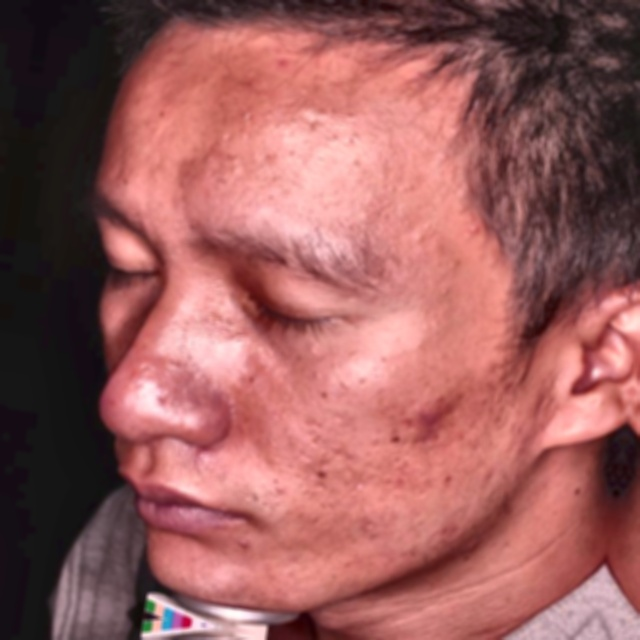comedone: (407, 395, 451, 433), (273, 49, 303, 79)
